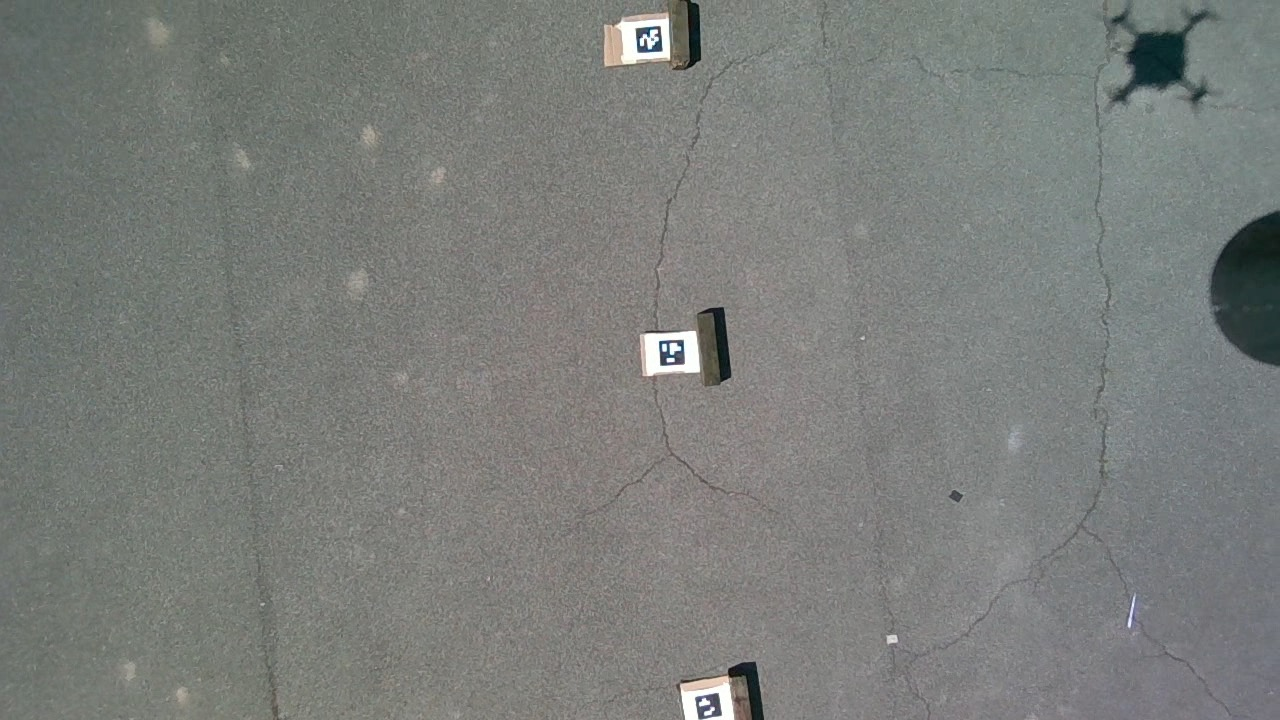probes: (1126, 594, 1136, 628)
